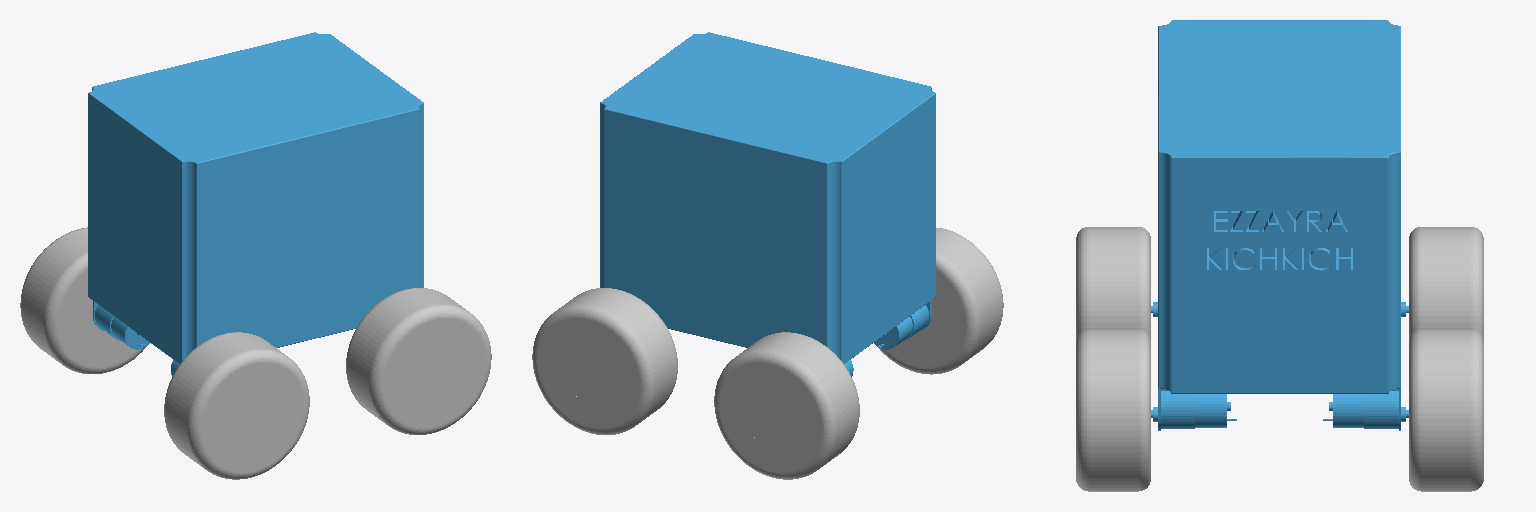
URDF robot description (bot):
<?xml version="1.0"?>
<robot name="bot">
    <gazebo>
        <plugin name="gazebo_ros_control" filename="libgazebo_ros_control.so">
            <legacyModeNS>true</legacyModeNS>
        </plugin>
    </gazebo>
<!--links-->

    <link name="base_footprint">
        <origin xyz="0.0 0.0 0.0" rpy="0.0 0.0 0.0"/>
    </link>
    <link name="base_link">
        <visual >
            <origin xyz="0.0 0.0 0.0" rpy="0.0 0.0 1.5707"/>
            <geometry>
                <mesh filename="package://bot_description/models/meshes/body.dae"/>
            </geometry>
        </visual>
        <collision>
            <origin xyz="0.0 0.0 0.0" rpy="0.0 0.0 1.5707"/>
            <geometry>
                <mesh filename="package://bot_description/models/meshes/body.dae"/>
            </geometry>
        </collision>
        <inertial>
            <origin xyz="0.0 0.0 0.0" rpy="0.0 0.0 1.5707"/>
            <mass value="2.78"/>
            <inertia ixx="0.0290046666667" ixy="0.0" ixz="0.0" iyy="0.022153125" iyz="0.0" izz="0.0244697916667"/>
        </inertial>
    </link>
    <link name="imu_link">
        <inertial>
            <origin xyz="0.0 0.0 0.0" rpy="0.0 0.0 0"/>
            <mass value="0.001"/>
            <inertia ixx="0.0000001" ixy="0.000000" ixz="0.000000" iyy="0.00000001" iyz="0.0" izz="0.000000001"/>
        </inertial>
        <visual>
            <origin xyz="0.0 0.0 0.0" rpy="0.0 0.0 0"/>
            <geometry>
                <box size="0.001 0.001 0.001"/>
            </geometry>
        </visual>
        <collision>
            <origin xyz="0.0 0.0 0.0" rpy="0.0 0.0 0"/>
            <geometry>
                <box size="0.001 0.001 0.001"/>
            </geometry>
        </collision>
    </link>
    <link name="gps_link">
        <inertial>
            <origin xyz="0.0 0.0 0.0" rpy="0.0 0.0 0.0"/>
            <mass value="0.001"/>
            <inertia ixx="0.0000001" ixy="0.000000" ixz="0.000000" iyy="0.00000001" iyz="0.0" izz="0.000000001"/>
        </inertial>
        <visual>
            <origin xyz="0.0 0.0 0.0" rpy="0.0 0.0 0"/>
            <geometry>
                <box size="0.001 0.001 0.001"/>
            </geometry>
        </visual>
        <collision>
            <origin xyz="0.0 0.0 0.0" rpy="0.0 0.0 0"/>
            <geometry>
                <box size="0.001 0.001 0.001"/>
            </geometry>
        </collision>
    </link>
    <link name="fake_laser_link">
        <origin xyz="0.0 0.0 0.0" rpy="0.0 0.0 0.0"/>
    </link>
    <link name="RFW_link">
        <visual >
            <origin xyz="0.0 0.0 0.0" rpy="0.0 0.0 1.5707"/>
            <geometry>
                <mesh filename="package://bot_description/models/meshes/roue.dae"/>
            </geometry>
        </visual>
        <collision>
            <origin xyz="0.0 0.0 0.0" rpy="0.0 0.0 1.5707"/>
            <geometry>
                <mesh filename="package://bot_description/models/meshes/roue.dae"/>
            </geometry>
        </collision>
        <inertial>
            <origin xyz="0.0 0.0 0.0" rpy="0.0 0.0 1.5707"/>
            <mass value="0.156"/>
            <inertia ixx="0.000211575" ixy="0.0" ixz="0.0" iyy="0.000211575" iyz="0.0" izz="0.00032955"/>
        </inertial>
    </link>
    <link name="LFW_link">
        <visual >
            <origin xyz="0.0 0.0 0.0" rpy="0.0 0.0 1.5707"/>
            <geometry>
                <mesh filename="package://bot_description/models/meshes/roue.dae"/>
            </geometry>
        </visual>
        <collision>
            <origin xyz="0.0 0.0 0.0" rpy="0.0 0.0 1.5707"/>
            <geometry>
                <mesh filename="package://bot_description/models/meshes/roue.dae"/>
            </geometry>
        </collision>
        <inertial>
            <origin xyz="0.0 0.0 0.0" rpy="0.0 0.0 1.5707"/>
            <mass value="0.156"/>
            <inertia ixx="0.000211575" ixy="0.0" ixz="0.0" iyy="0.000211575" iyz="0.0" izz="0.00032955"/>
        </inertial>
    </link>
    <link name="RBW_link">
        <visual >
            <origin xyz="0.0 0.0 0.0" rpy="0.0 0.0 1.5707"/>
            <geometry>
                <mesh filename="package://bot_description/models/meshes/roue.dae"/>
            </geometry>
        </visual>
        <collision>
            <origin xyz="0.0 0.0 0.0" rpy="0.0 0.0 1.5707"/>
            <geometry>
                <mesh filename="package://bot_description/models/meshes/roue.dae"/>
            </geometry>
        </collision>
        <inertial>
            <origin xyz="0.0 0.0 0.0" rpy="0.0 0.0 1.5707"/>
            <mass value="0.156"/>
            <inertia ixx="0.000211575" ixy="0.0" ixz="0.0" iyy="0.000211575" iyz="0.0" izz="0.00032955"/>
        </inertial>
    </link>
    <link name="LBW_link">
        <visual >
            <origin xyz="0.0 0.0 0.0" rpy="0.0 0.0 1.5707"/>
            <geometry>
                <mesh filename="package://bot_description/models/meshes/roue.dae"/>
            </geometry>
        </visual>
        <collision>
            <origin xyz="0.0 0.0 0.0" rpy="0.0 0.0 1.5707"/>
            <geometry>
                <mesh filename="package://bot_description/models/meshes/roue.dae"/>
            </geometry>
        </collision>
        <inertial>
            <origin xyz="0.0 0.0 0.0" rpy="0.0 0.0 1.5707"/>
            <mass value="0.156"/>
            <inertia ixx="0.000211575" ixy="0.0" ixz="0.0" iyy="0.000211575" iyz="0.0" izz="0.00032955"/>
        </inertial>
    </link>
<!--joints-->
    <joint name="base_joint" type="fixed">
        <origin xyz="0.0 0.0 0.0" rpy="0.0 0.0 0"/>
        <parent link="base_footprint"/>
        <child link="base_link"/>
    </joint>
    <joint name="fake_laser_joint" type="fixed">
        <origin xyz="0.0 0.0 0.0" rpy="0.0 0.0 0"/>
        <parent link="base_link"/>
        <child link="fake_laser_link"/>
    </joint>
    <joint name="imu_joint" type="fixed">
        <origin xyz="0.0 0.0 0.1" rpy="0.0 0.0 0.0"/>
        <parent link="base_link"/>
        <child link="imu_link"/>
    </joint>
    <joint name="gps_joint" type="fixed">
        <origin xyz="0.05 0.0 0.1" rpy="0.0 0.0 0.0"/>
        <parent link="base_link"/>
        <child link="gps_link"/>
    </joint>
    <joint name="LFW_joint" type="continuous">
        <origin xyz=" 0.0975 0.130 0.0" rpy="0.0 0.0 0.0"/>
        <parent link="base_link"/>
        <child link="RFW_link"/>
        <axis xyz="0.0 1.0 0.0"/>
        <limit effort="100" velocity="30"/> 
    </joint>
    <joint name="LBW_joint" type="continuous">
        <origin xyz=" -0.0975 0.130 0.0" rpy="0.0 0.0 0.0"/>
        <parent link="base_link"/>
        <child link="LFW_link"/>
        <axis xyz="0.0 1.0 0.0"/>
        <limit effort="100" velocity="30"/> 
    </joint>
    <joint name="RBW_joint" type="continuous">
        <origin xyz="-0.0975 -0.137 0.0" rpy="0.0 0.0 0.0"/>
        <parent link="base_link"/>
        <child link="RBW_link"/>
        <axis xyz="0.0 1.0 0.0"/>
        <limit effort="100" velocity="30"/> 
    </joint>
    <joint name="RFW_joint" type="continuous">
        <origin xyz="0.0975 -0.137  0.0" rpy="0.0 0.0 0.0"/>
        <parent link="base_link"/>
        <child link="LBW_link"/>
        <axis xyz="0.0 1.0 0.0"/>
        <limit effort="100" velocity="30"/> 
    </joint>


<!--gazebo plugins-->
    <gazebo reference="RFW_link">
        <mu1>1.0</mu1>
	    <mu2>1.0</mu2>
	    <kp>10000000.0</kp>
	    <kd>1.0</kd>
	    <material>Gazebo/Black</material>
	</gazebo>
    <gazebo reference="LFW_link">
        <mu1>1.0</mu1>
	    <mu2>1.0</mu2>
	    <kp>10000000.0</kp>
	    <kd>1.0</kd>
	    <material>Gazebo/Black</material>
	</gazebo>
    <gazebo reference="RBW_link">
        <mu1>1.0</mu1>
	    <mu2>1.0</mu2>
	    <kp>10000000.0</kp>
	    <kd>1.0</kd>
	    <material>Gazebo/Black</material>
	</gazebo>
    <gazebo reference="LBW_link">
        <mu1>1.0</mu1>
	    <mu2>1.0</mu2>
	    <kp>10000000.0</kp>
	    <kd>1.0</kd>
	    <material>Gazebo/Black</material>
	</gazebo>
    <gazebo reference="base_link">
	    <material>Gazebo/Orange</material>
	</gazebo>

    <!--<gazebo>
    <plugin name="imu_plugin" filename="libgazebo_ros_imu.so">
      <alwaysOn>true</alwaysOn>
      <bodyName>imu_link</bodyName>
      <topicName>imu</topicName>
      <serviceName>imu_service</serviceName>
      <gaussianNoise>0.0</gaussianNoise>
      <updateRate>20.0</updateRate>
    </plugin>
  </gazebo>-->
    <gazebo reference="imu_link">
    <gravity>true</gravity>
    <sensor name="imu_sensor" type="imu">
      <always_on>true</always_on>
      <update_rate>30.0</update_rate>
      <visualize>true</visualize>
      <topic>__default_topic__</topic>
      <plugin filename="libgazebo_ros_imu_sensor.so" name="imu_plugin">
        <topicName>imu</topicName>
        <bodyName>imu_link</bodyName>
        <updateRateHZ>10.0</updateRateHZ>
        <gaussianNoise>0.0</gaussianNoise>
        <xyzOffset>0 0 0</xyzOffset>
        <rpyOffset>0 0 0</rpyOffset>
        <frameName>imu_link</frameName>
        <initialOrientationAsReference>false</initialOrientationAsReference>
      </plugin>
      <pose>0 0 0 0 0 0</pose>
    </sensor>
  </gazebo>
    <gazebo>
        <plugin name="skid_steer_drive_controller" filename="libgazebo_ros_skid_steer_drive.so">
            <updateRate>10.0</updateRate>
            <leftFrontJoint>LFW_joint</leftFrontJoint>
            <rightFrontJoint>RFW_joint</rightFrontJoint>
            <leftRearJoint>LBW_joint</leftRearJoint>
            <rightRearJoint>RBW_joint</rightRearJoint>
            <wheelSeparation>0.267</wheelSeparation>
            <wheelDiameter>0.13</wheelDiameter>
            <robotBaseFrame>base_footprint</robotBaseFrame>
            <torque>20</torque>
            <topicName>cmd_vel</topicName>
            <broadcastTF>false</broadcastTF>
        </plugin>
    </gazebo>
    <gazebo>
        <plugin name="gps_controller" filename="libhector_gazebo_ros_gps.so">
            <alwayson>true</alwayson>
            <updaterate>30.0</updaterate>
            <bodyname>gps_link</bodyname>
            <frameId>gps_link</frameId>
            <topicname>/fix</topicname>
            <velocitytopicname>/fix_velocity</velocitytopicname>
            <drift>0.0 0.0 0.0</drift>
            <gaussiannoise>0.1 0.1 0.1</gaussiannoise>
            <velocitydrift>0 0 0</velocitydrift>
            <velocitygaussiannoise>0.1 0.1 0.1</velocitygaussiannoise>
        </plugin>
    </gazebo>
<!--transmissions-->
    <transmission name="RFW_transmission">
        <type>transmission_interface/SimpleTransmission</type>
        <joint name="RFW_joint">
            <hardwareInterface>hardware_interface/EffortJointInterface</hardwareInterface>  
        </joint>
        <actuator name="RFW_actuator">
            <mechanicalReduction>7</mechanicalReduction>
            <hardwareInterface>hardware_interface/EffortJointInterface</hardwareInterface>
        </actuator>
    </transmission>

    <transmission name="LFW_transmission">
        <type>transmission_interface/SimpleTransmission</type>
        <joint name="LFW_joint">
            <hardwareInterface>hardware_interface/EffortJointInterface</hardwareInterface>  
        </joint>
        <actuator name="LFW_actuator">
            <mechanicalReduction>7</mechanicalReduction>
            <hardwareInterface>hardware_interface/EffortJointInterface</hardwareInterface>
        </actuator>
    </transmission>

    <transmission name="RBW_transmission">
        <type>transmission_interface/SimpleTransmission</type>
        <joint name="RBW_joint">
            <hardwareInterface>hardware_interface/EffortJointInterface</hardwareInterface>  
        </joint>
        <actuator name="RBW_actuator">
            <mechanicalReduction>7</mechanicalReduction>
            <hardwareInterface>hardware_interface/EffortJointInterface</hardwareInterface>
        </actuator>
    </transmission>

    <transmission name="LBW_transmission">
        <type>transmission_interface/SimpleTransmission</type>
        <joint name="LBW_joint">
            <hardwareInterface>hardware_interface/EffortJointInterface</hardwareInterface>  
        </joint>
        <actuator name="LBW_actuator">
            <mechanicalReduction>7</mechanicalReduction>
            <hardwareInterface>hardware_interface/EffortJointInterface</hardwareInterface>
        </actuator>
    </transmission>
    

</robot>

--- What the picture shows (computed from the rendered views, not written in the file) ---
3 views of the same robot in one strip: view 1: azimuth 30°, elevation 25°; view 2: azimuth 150°, elevation 25°; view 3: azimuth 270°, elevation 25° (orthographic).
Robot: bot — 9 links, 8 joints (4 continuous, 4 fixed); root link base_footprint; default pose: all joints at 0.
Links seen in each view (by area): view 1: base_link, RBW_link, LBW_link, LFW_link; view 2: base_link, LFW_link, RFW_link, RBW_link; view 3: base_link, RFW_link, LBW_link, LFW_link, RBW_link.
Boxes of the visible links, bbox=[...] form: base_link: bbox=[88, 32, 423, 376]; RBW_link: bbox=[164, 332, 309, 479]; LBW_link: bbox=[346, 288, 491, 434]; LFW_link: bbox=[20, 227, 144, 373]; base_link: bbox=[600, 32, 935, 376]; LFW_link: bbox=[714, 332, 859, 479]; RFW_link: bbox=[532, 288, 677, 434]; RBW_link: bbox=[878, 228, 1003, 374]; base_link: bbox=[1151, 20, 1408, 430]; RFW_link: bbox=[1409, 329, 1483, 491]; LBW_link: bbox=[1076, 329, 1150, 491]; LFW_link: bbox=[1409, 227, 1483, 338]; RBW_link: bbox=[1076, 227, 1150, 338].
Bounding box of the posed robot: 0.3249 × 0.327 × 0.3045 m (x, y, z).
Meshes: 2 distinct files referenced, 5 mesh visuals loaded (2 Collada DAE).
